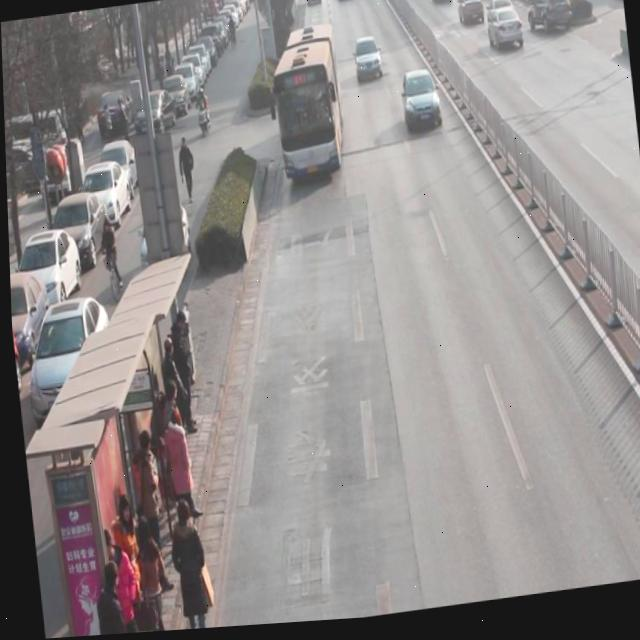car: (398, 72, 443, 140), (483, 9, 525, 60), (525, 0, 574, 43), (351, 39, 383, 88), (486, 0, 520, 30), (455, 0, 486, 32)
van: (267, 25, 345, 181)
